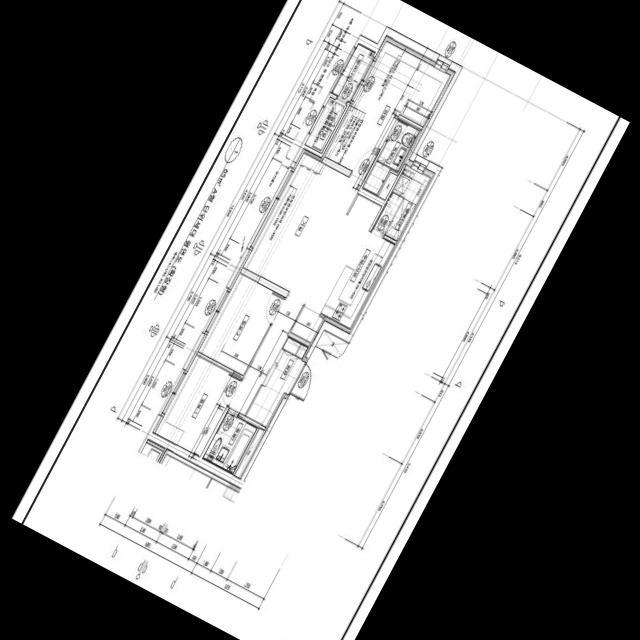background: (11, 0, 629, 640)
space_balconi: (372, 160, 434, 241), (331, 43, 374, 101)
space_bedroom: (322, 36, 454, 178), (195, 272, 283, 375), (152, 354, 240, 456)
space_front: (245, 335, 309, 427)
space_kitchen: (290, 194, 395, 343)
space_living_room: (228, 148, 361, 415)
space_other: (233, 428, 265, 478), (377, 163, 404, 200), (315, 330, 347, 357)
space_outdoor_room: (304, 97, 345, 153)
space_toilet: (362, 120, 418, 194), (202, 412, 256, 472)
